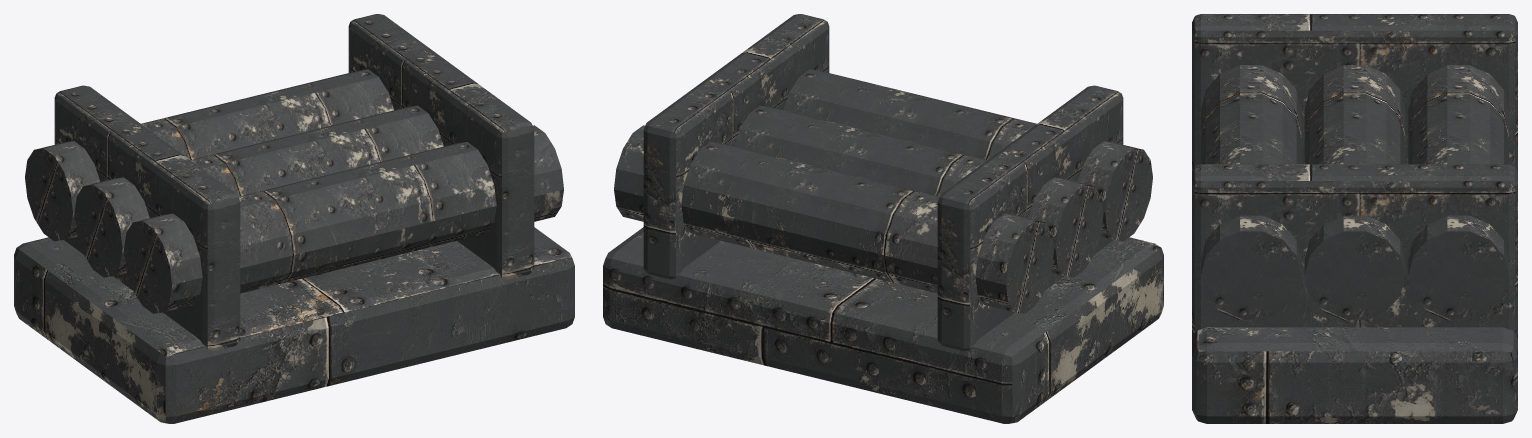
Rendered from prop_pipes.glb.
3 views of the same model, side by side, from view 1: azimuth 30°, elevation 25°; view 2: azimuth 150°, elevation 25°; view 3: azimuth 270°, elevation 25° (orthographic). The views are drawn at different scales.
Parts seen in each view (by area): view 1: GEO-pipe-base, GEO-pipe, GEO-clamp, GEO-clamp.001, GEO-pipe.002, GEO-pipe.001; view 2: GEO-pipe-base, GEO-pipe.002, GEO-clamp, GEO-clamp.001, GEO-pipe, GEO-pipe.001; view 3: GEO-pipe-base, GEO-clamp.001, GEO-clamp, GEO-pipe.001, GEO-pipe, GEO-pipe.002.
Part boxes in pixels (box(x1,y1,x2,y2)): GEO-pipe-base: box(14, 227, 574, 423); GEO-pipe: box(124, 125, 563, 313); GEO-clamp: box(54, 85, 240, 351); GEO-clamp.001: box(348, 14, 534, 279); GEO-pipe.002: box(25, 69, 394, 241); GEO-pipe.001: box(74, 105, 443, 277); GEO-pipe-base: box(603, 227, 1163, 423); GEO-pipe.002: box(614, 125, 1053, 313); GEO-clamp: box(937, 85, 1123, 351); GEO-clamp.001: box(643, 14, 829, 279); GEO-pipe: box(783, 69, 1152, 241); GEO-pipe.001: box(734, 105, 1103, 277); GEO-pipe-base: box(1192, 327, 1517, 423); GEO-clamp.001: box(1192, 164, 1517, 332); GEO-clamp: box(1192, 14, 1517, 171); GEO-pipe.001: box(1304, 65, 1405, 320); GEO-pipe: box(1201, 65, 1301, 320); GEO-pipe.002: box(1408, 65, 1508, 320).
Size of the model in its own units: 34 by 17 by 22.
Materials: 3 (3 with a texture image).
